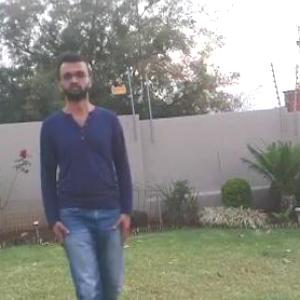follow: (43, 59, 133, 299)
